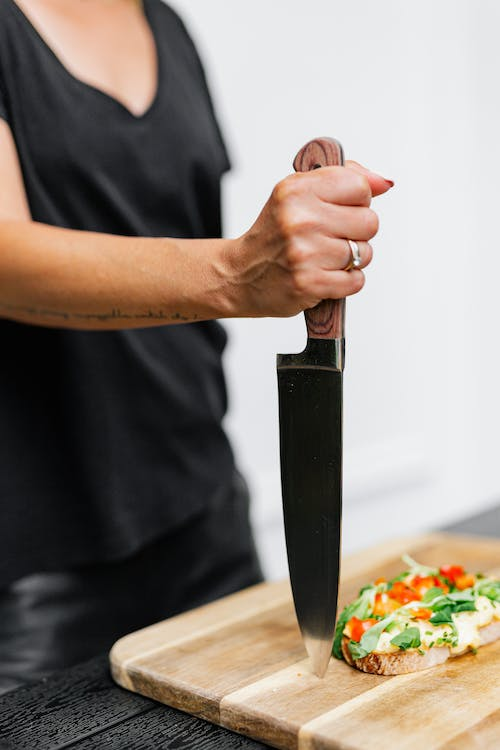knife: (275, 136, 347, 679)
